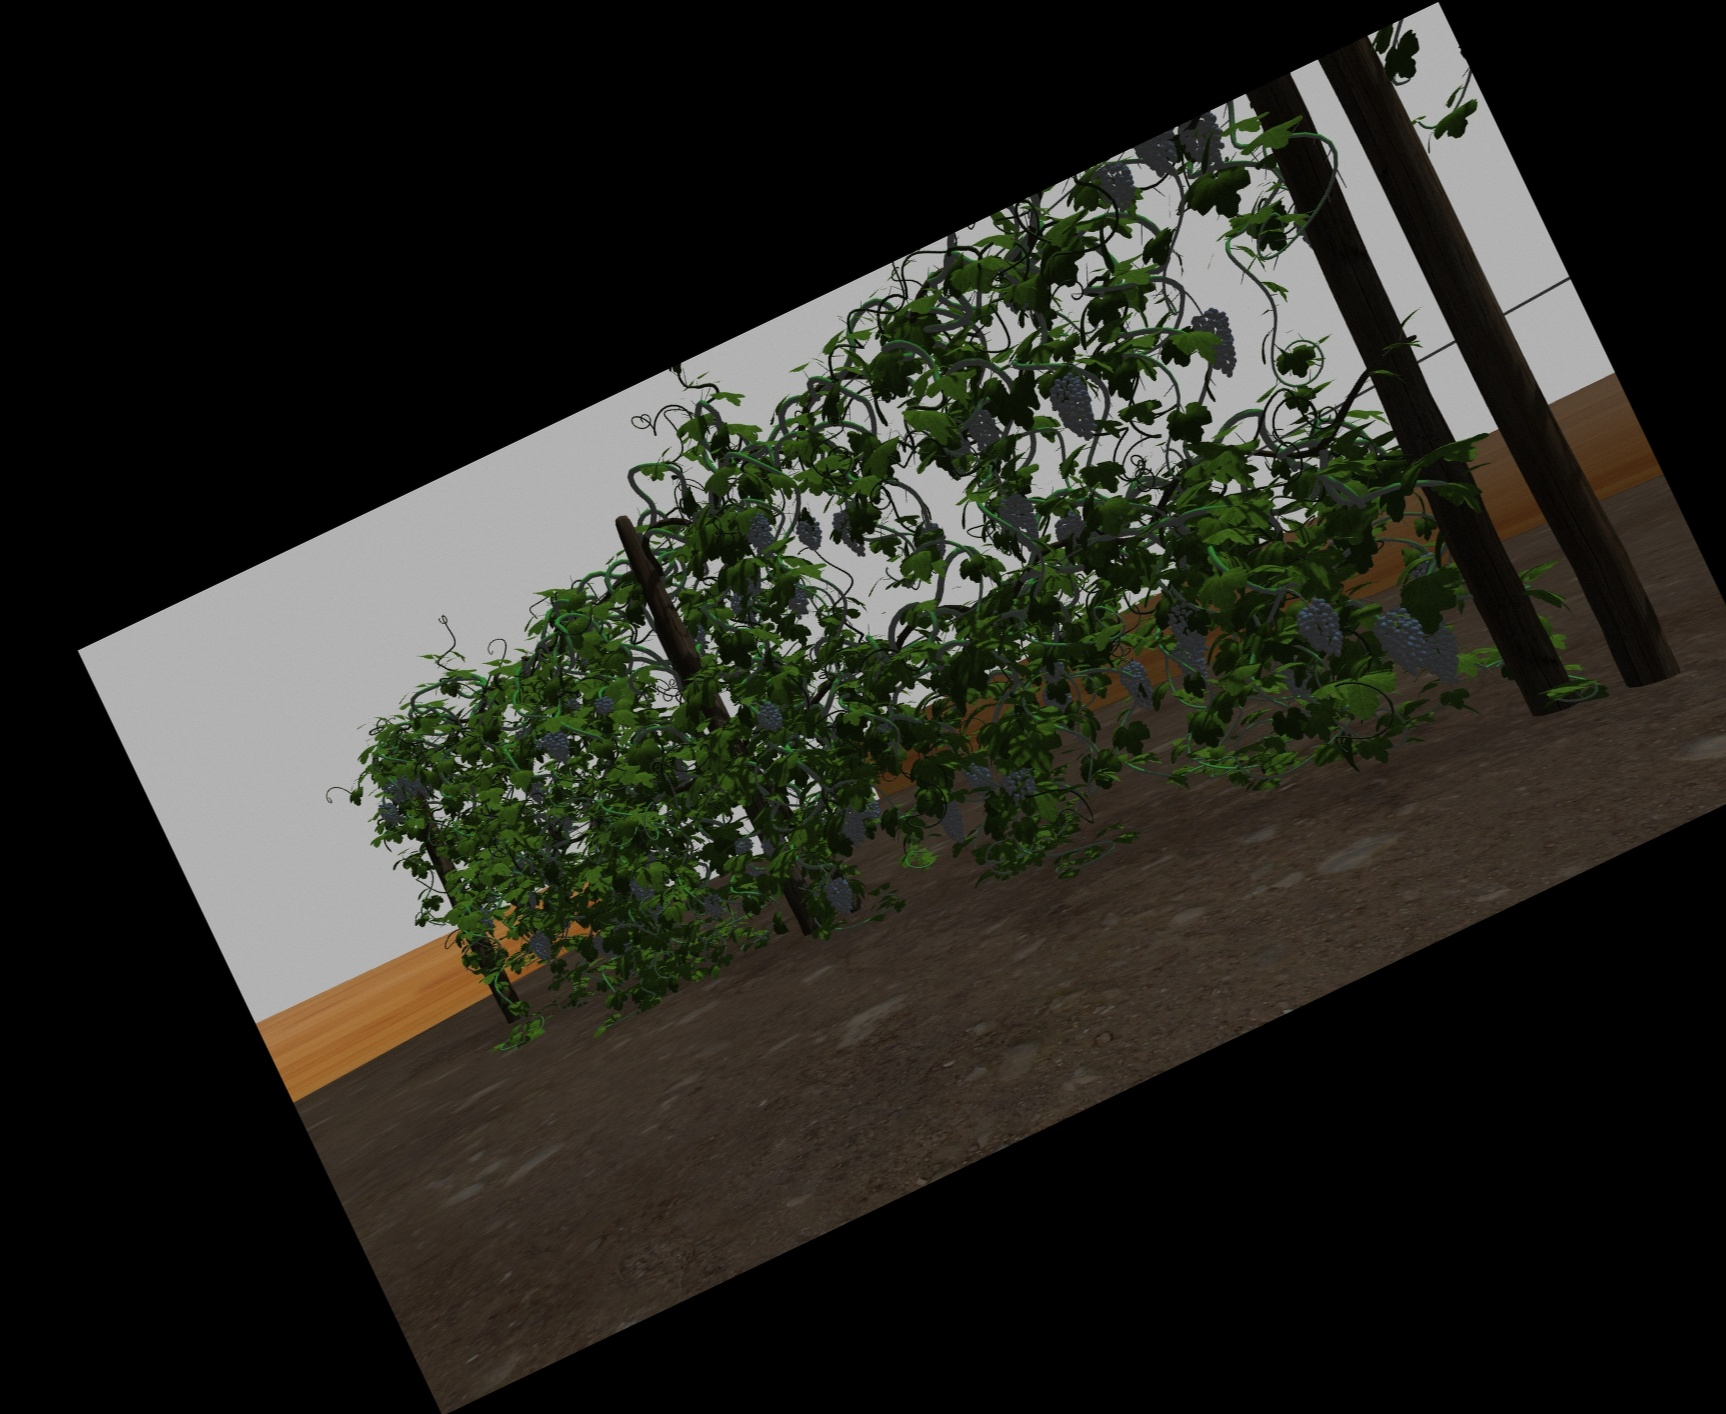grape: (1198, 310, 1240, 374), (1379, 612, 1424, 671), (1057, 374, 1095, 440), (1300, 597, 1340, 660), (1421, 627, 1461, 683), (1174, 604, 1206, 657), (1186, 123, 1226, 165), (1001, 492, 1036, 535), (1100, 166, 1134, 209), (836, 509, 863, 558), (747, 513, 776, 556), (1125, 663, 1151, 707), (971, 412, 998, 453), (1143, 143, 1180, 174), (1178, 647, 1206, 687), (940, 802, 966, 843), (824, 879, 853, 916), (841, 812, 867, 846), (797, 515, 821, 551), (1003, 772, 1034, 799), (755, 698, 778, 733), (968, 761, 991, 796), (548, 729, 569, 764), (530, 932, 550, 961), (705, 892, 724, 922), (631, 876, 651, 902), (401, 772, 421, 797), (593, 694, 614, 716), (733, 835, 753, 855), (381, 803, 399, 825), (863, 799, 880, 817)
